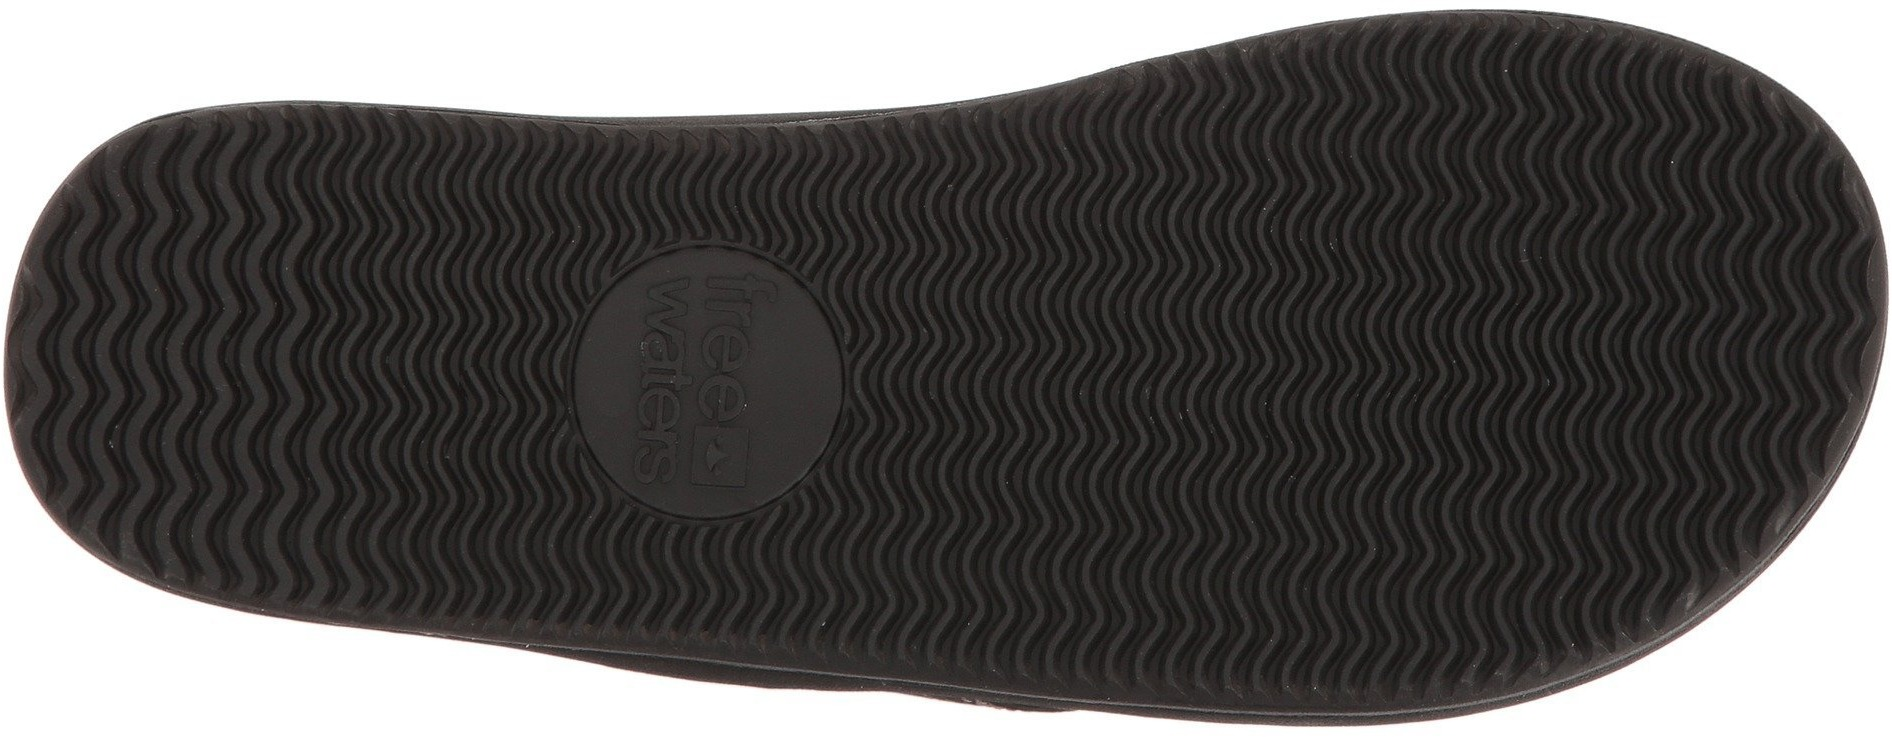chevron: (10, 1, 1886, 688), (1041, 200, 1420, 593), (539, 215, 869, 544), (1490, 147, 1785, 434), (165, 242, 422, 474)
circle: (539, 215, 869, 544), (571, 258, 845, 530)
text: (539, 215, 869, 544), (624, 269, 781, 507)
